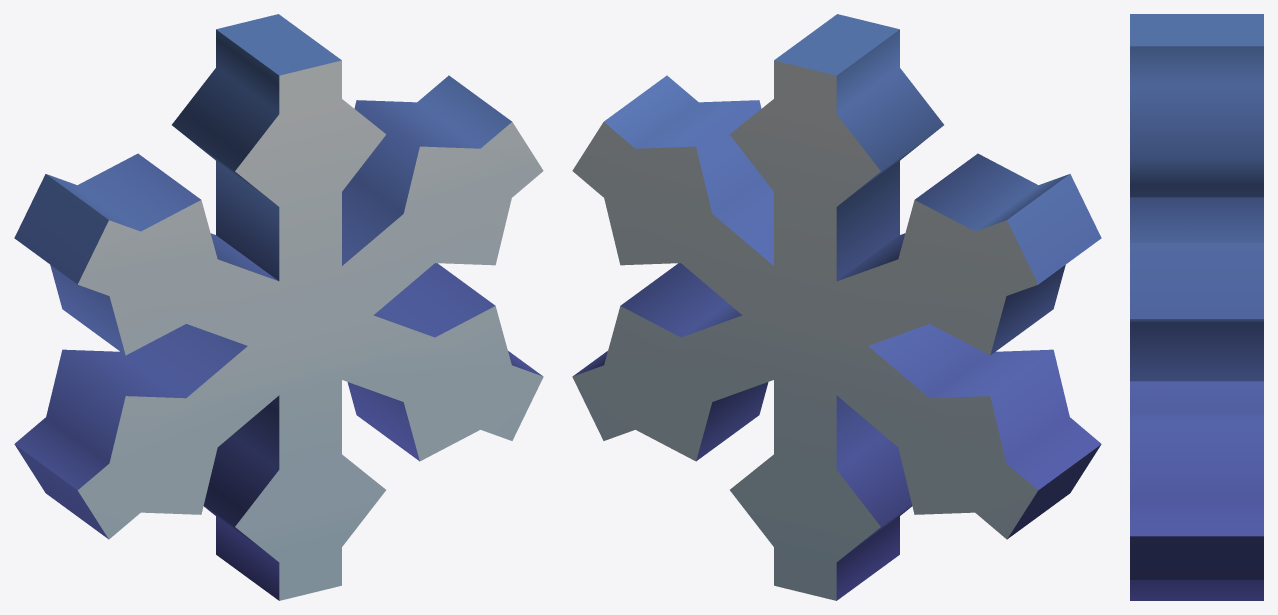
File: snowflake-b.glb
3 renders of one model, left to right at view 1: azimuth 30°, elevation 25°; view 2: azimuth 150°, elevation 25°; view 3: azimuth 270°, elevation 25°, orthographic. The views are drawn at different scales.
Visible parts, largest first — view 1: snowflake-b; view 2: snowflake-b; view 3: snowflake-b.
Part boxes in pixels (x1=…): snowflake-b: x1=14, y1=14, x2=543, y2=600; snowflake-b: x1=572, y1=14, x2=1101, y2=600; snowflake-b: x1=1130, y1=14, x2=1263, y2=600.
Size of the model in its own units: 0.3714 by 0.4 by 0.0875.
